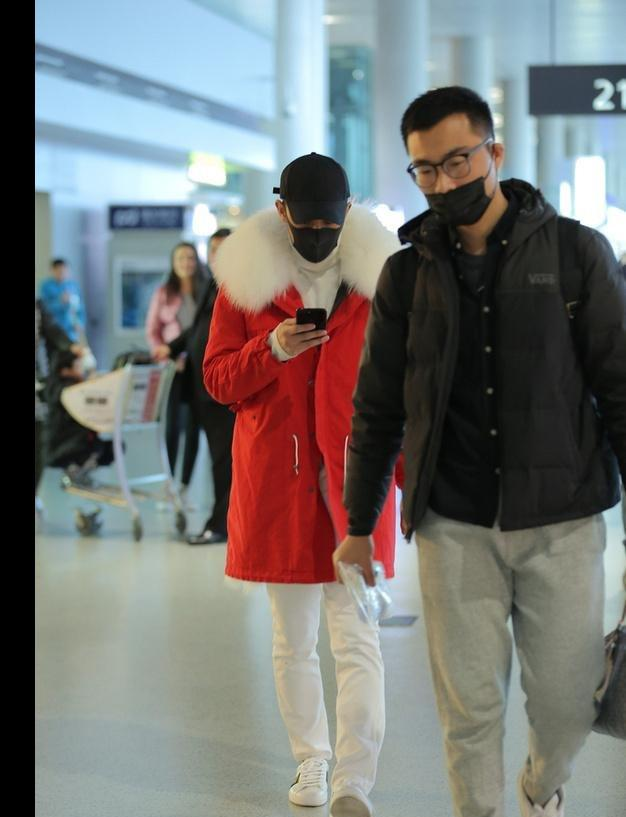NONE: (175, 247, 197, 275)
OK: (286, 196, 347, 261)
WRONG: (413, 137, 492, 227)
